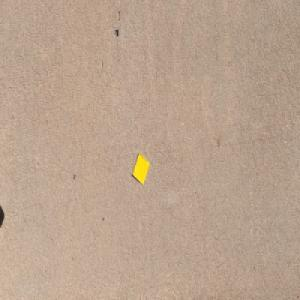PlasticPart: (131, 152, 150, 185)
